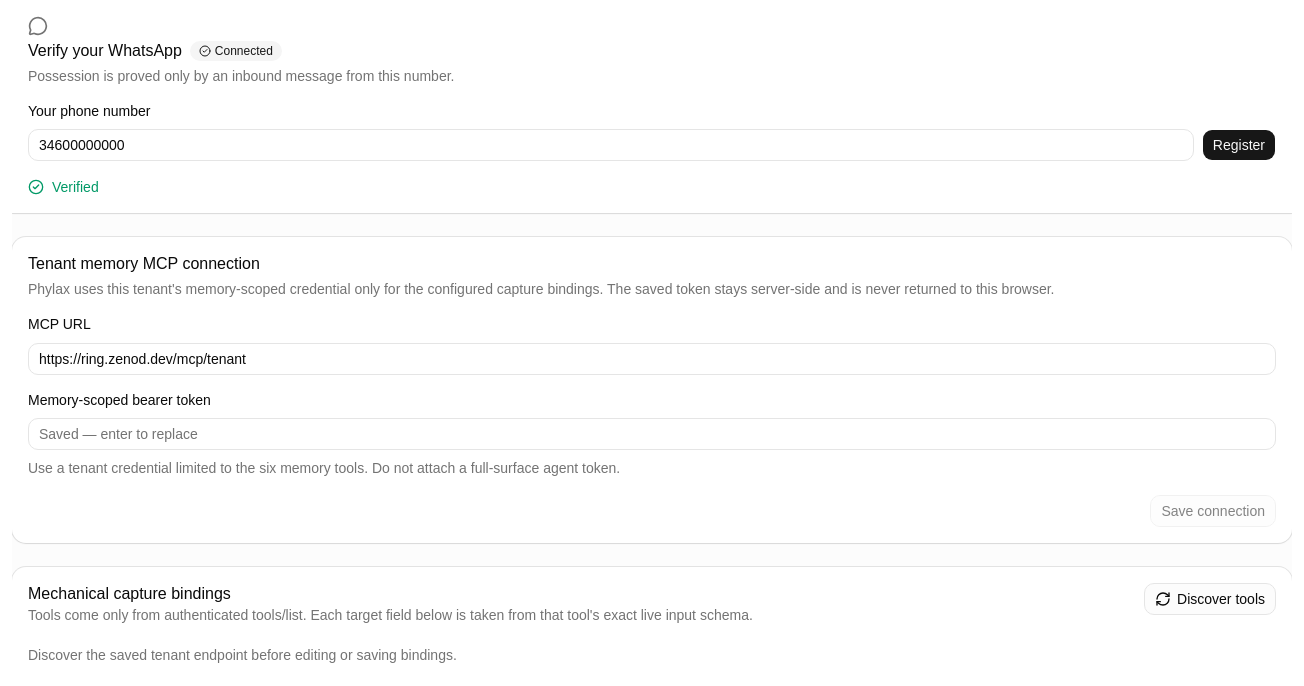
Test: Phylax tenant transcription settings › rejects schema drift before PUT and replaces the visible catalog
Click the button "Discover tools" at (1210, 599), box [1144,583,1276,615]
(page scrolled)
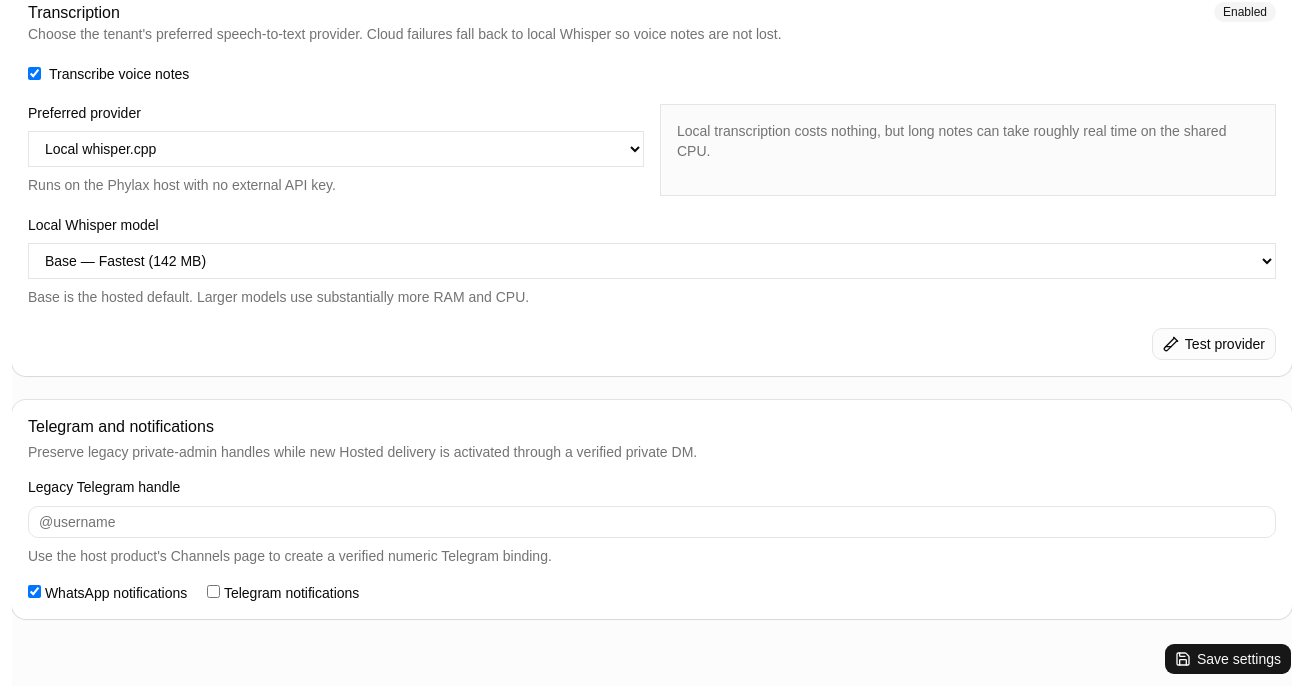
Click the button "Save settings" at (1228, 658), box [1164,642,1292,674]
(page scrolled)
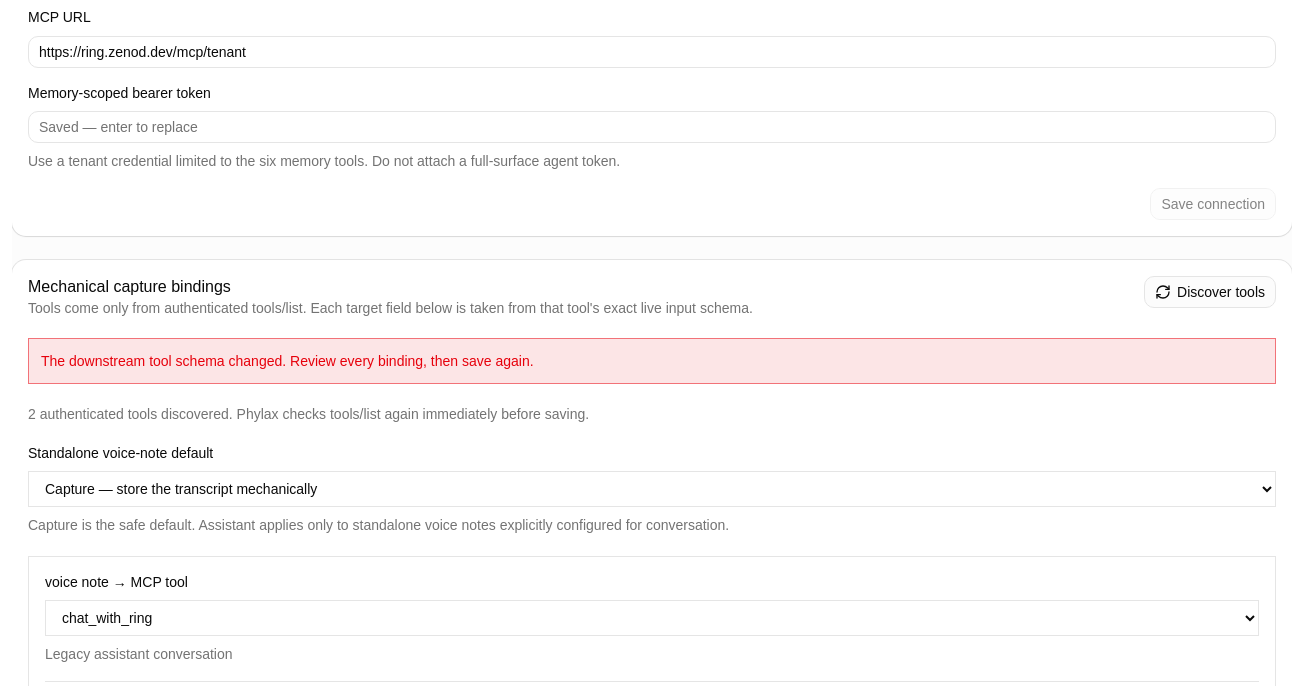
Check: the text "The downstream tool schema changed. Review every binding, then save again." is shown, box [28,338,1276,384]
